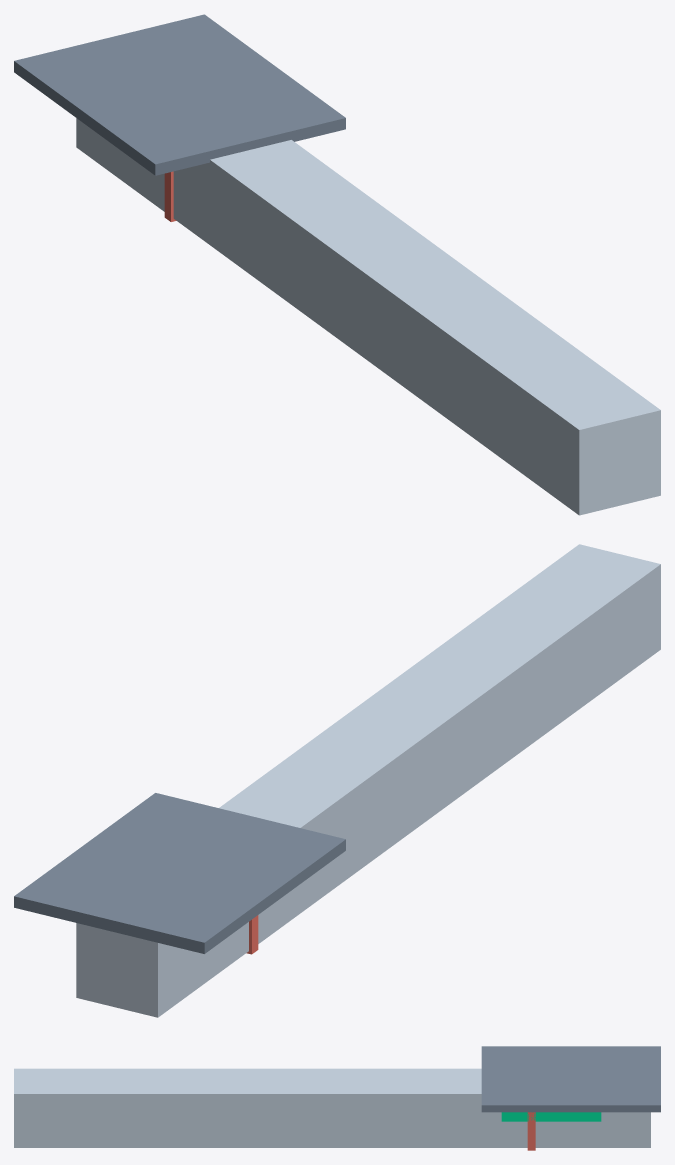
Rendered from is800_steel_tension_member_net_section.glb.
3 renders of one model, top to bottom at view 1: azimuth 30°, elevation 25°; view 2: azimuth 150°, elevation 25°; view 3: azimuth 270°, elevation 25°, orthographic. The views are drawn at different scales.
Parts seen in each view (by area): view 1: SteelAngleTensionMemberISA, EndGussetConnectionPlate; view 2: SteelAngleTensionMemberISA, EndGussetConnectionPlate; view 3: SteelAngleTensionMemberISA, EndGussetConnectionPlate, BlockShearFailureTearoutPrism, CriticalNetRuptureSectionPlane.
Part boxes in pixels (bbox=[...]): SteelAngleTensionMemberISA: bbox=[76, 118, 660, 515]; EndGussetConnectionPlate: bbox=[14, 14, 345, 175]; SteelAngleTensionMemberISA: bbox=[76, 544, 660, 1017]; EndGussetConnectionPlate: bbox=[14, 793, 345, 953]; SteelAngleTensionMemberISA: bbox=[14, 1068, 650, 1147]; EndGussetConnectionPlate: bbox=[481, 1046, 660, 1112]; BlockShearFailureTearoutPrism: bbox=[501, 1112, 601, 1121]; CriticalNetRuptureSectionPlane: bbox=[527, 1112, 535, 1150].
Size of the model in its own units: 0.35 by 0.17 by 1.63.
